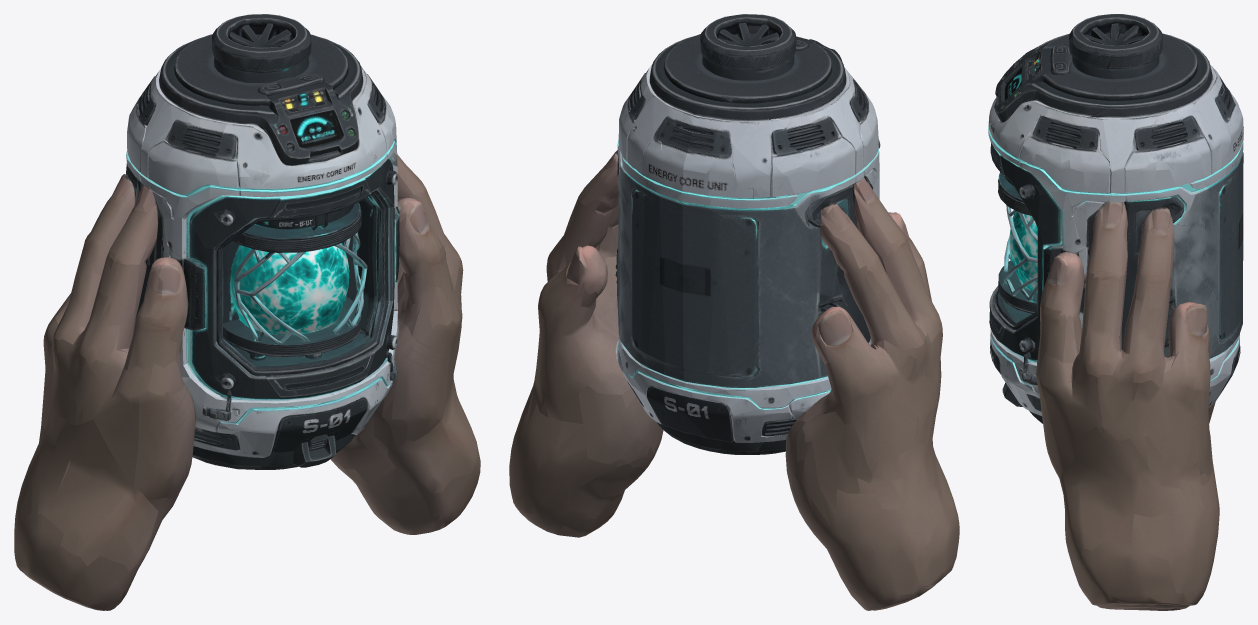
File: capsule_hands.glb
3 views of the same model, side by side, from view 1: azimuth 30°, elevation 25°; view 2: azimuth 150°, elevation 25°; view 3: azimuth 270°, elevation 25° (orthographic). The views are drawn at different scales.
Visible parts, largest first — view 1: Mesh_0; view 2: Mesh_0; view 3: Mesh_0.
Part boxes in pixels (x1,y1,x2,y2): Mesh_0: [14, 14, 480, 610]; Mesh_0: [509, 14, 959, 610]; Mesh_0: [988, 14, 1243, 610].
Size of the model in its own units: 1.62 by 1.9 by 0.8666.
Materials: 1 (1 with a texture image).
